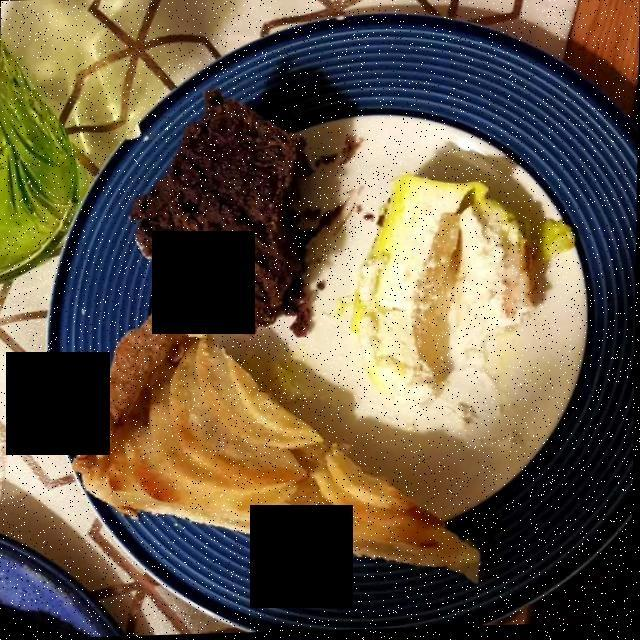apple-pie: (82, 306, 472, 561)
cake: (126, 86, 338, 323)
